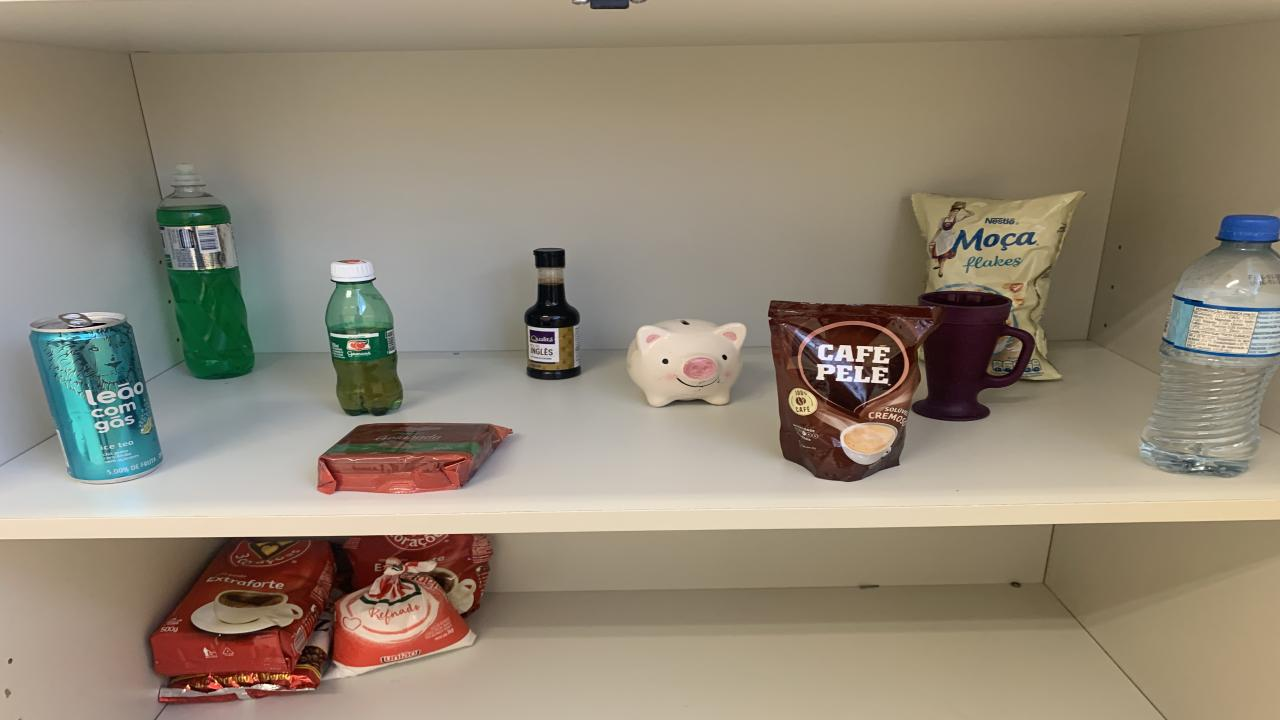Coffee-Pantry_Items: (768, 302, 940, 482), (150, 538, 335, 677), (342, 534, 492, 615)
Detergent-Cleanup_Items: (158, 165, 255, 379)
English_Sauce-Pantry_Items: (525, 248, 580, 379)
Flakes-Snacks: (912, 191, 1085, 381)
Guarana-Drinks: (325, 261, 402, 416)
Guava-Snacks: (318, 424, 512, 493), (325, 261, 402, 416)
Pig_Safe-Miscellaneous: (628, 319, 748, 407)
Tea-Drinks: (30, 311, 162, 484)
Water_Bottle-Drinks: (1140, 216, 1280, 476)
